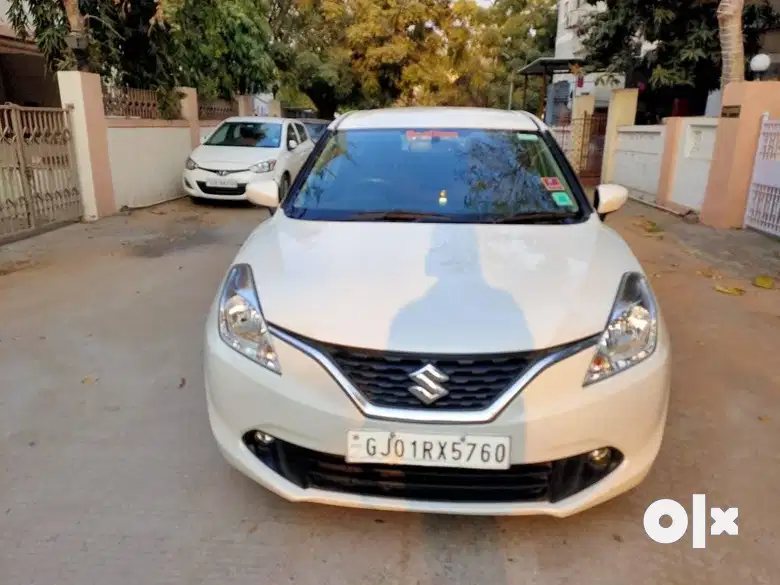car: (205, 111, 682, 520)
numberplate: (345, 429, 519, 480)
